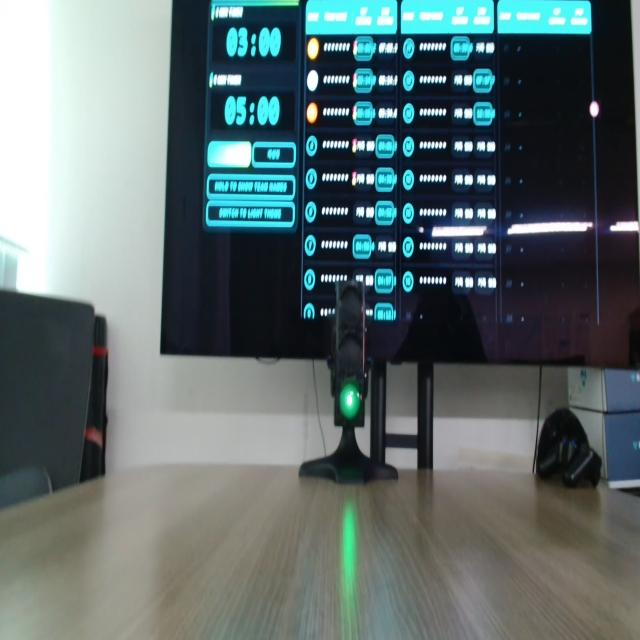green_light: (340, 381, 360, 420)
